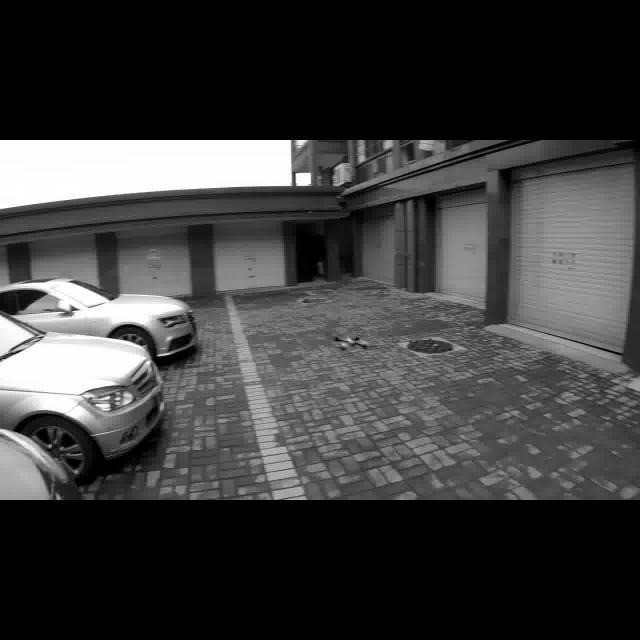Drons: (330, 332, 370, 354)
